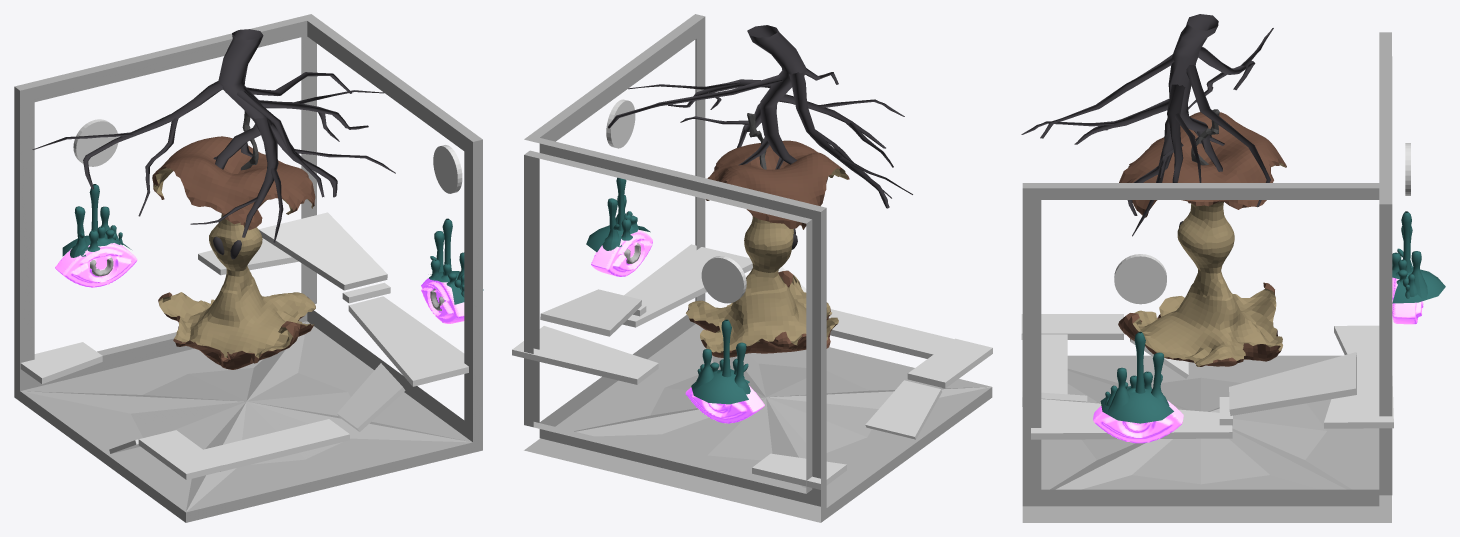
File: text_wutonsence007.fbx
3 views of the same model, side by side, from view 1: azimuth 30°, elevation 25°; view 2: azimuth 150°, elevation 25°; view 3: azimuth 270°, elevation 25° (orthographic). The views are drawn at different scales.
Visible parts, largest first — view 1: 立方体, Line002.006, tree, 立方体.017, 立方体.015, 立方体.019, eye_out001.003, 立方体.020, 立方体.012, 立方体.016, eyeman, eyeman.001 (+5 smaller); view 2: 立方体, Line002.006, tree, 立方体.018, 立方体.017, 立方体.019, 立方体.015, eyeman, 立方体.014, 立方体.020, 立方体.016, eyeman.001 (+4 smaller); view 3: 立方体, Line002.006, tree, 立方体.015, 立方体.017, eyeman.001, 立方体.018, eyeman, 柱体.002, 立方体.020, eye_out001.001, 立方体.019 (+2 smaller).
Boxes of the visible parts, x1,y1,x2,y2 form: 立方体: (14,14,482,522); Line002.006: (152,136,315,369); tree: (32,29,395,242); 立方体.017: (348,296,468,386); 立方体.015: (258,212,387,290); 立方体.019: (203,419,349,471); eye_out001.003: (55,243,137,287); 立方体.020: (138,430,223,479); 立方体.012: (337,363,405,431); 立方体.016: (20,342,102,384); eyeman: (62,184,131,257); eyeman.001: (429,218,483,304); 立方体: (524,14,992,522); Line002.006: (686,140,849,357); tree: (607,25,912,208); 立方体.018: (512,326,658,384); 立方体.017: (622,244,752,327); 立方体.019: (828,309,954,358); 立方体.015: (540,289,641,336); eyeman: (691,319,750,404); 立方体.014: (865,380,941,439); 立方体.020: (907,338,992,388); 立方体.016: (752,453,846,489); eyeman.001: (586,177,650,251); 立方体: (1022,32,1392,522); Line002.006: (1118,112,1286,366); tree: (1021,14,1273,236); 立方体.015: (1229,352,1356,415); 立方体.017: (1031,399,1232,439); eyeman.001: (1100,331,1173,423); 立方体.018: (1324,357,1393,428); eyeman: (1392,211,1445,303); 柱体.002: (1114,254,1166,304); 立方体.020: (1021,314,1123,339); eye_out001.001: (1093,400,1183,443); 立方体.019: (1022,334,1067,406).
Bounding box in the file's own units: 1341 × 1307 × 1191.
